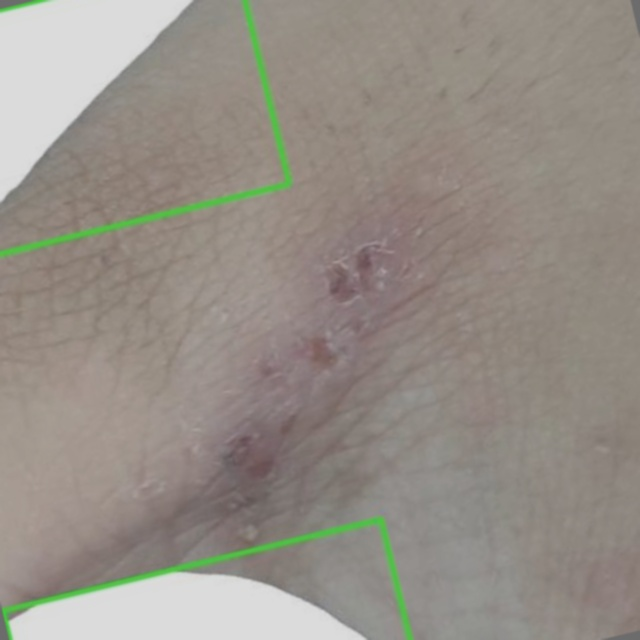Scabies: (0, 0, 289, 253)
